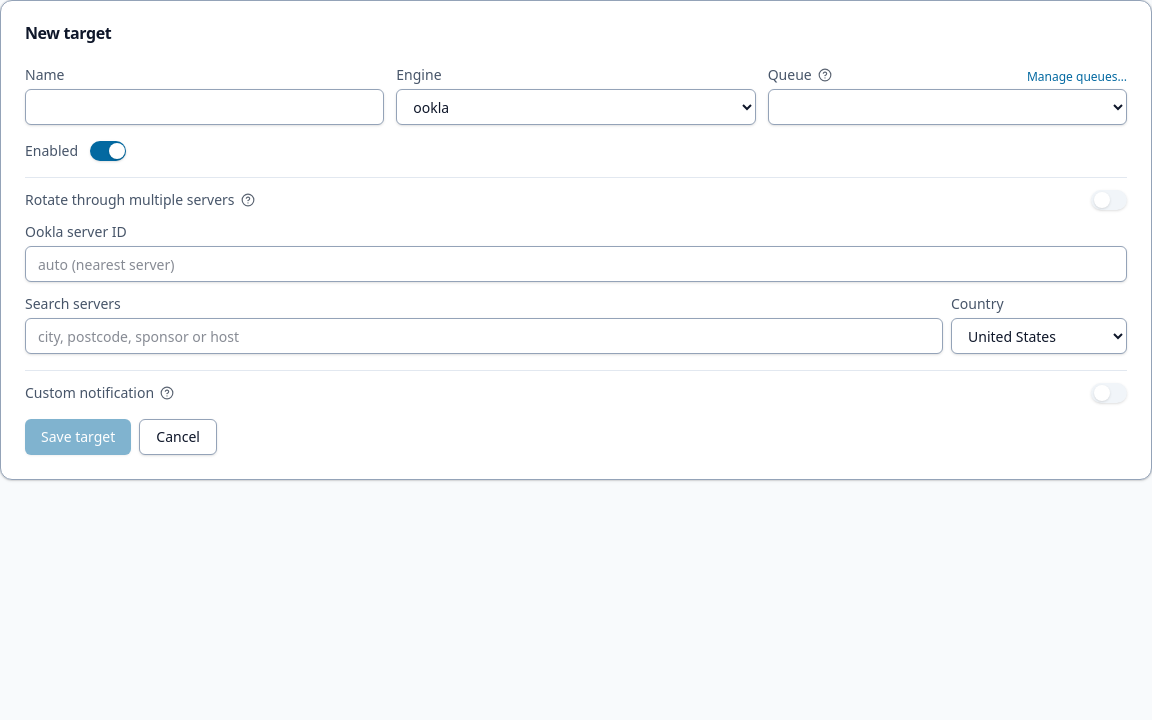
Test: TargetForm › shows the iperf3 option fields when iperf3 is chosen and Custom is switched on
The width and height of the screenshot is (1152, 720).
Select "iperf3" in the dropdown labelled "Engine": [576, 107] box [396, 89, 756, 125]
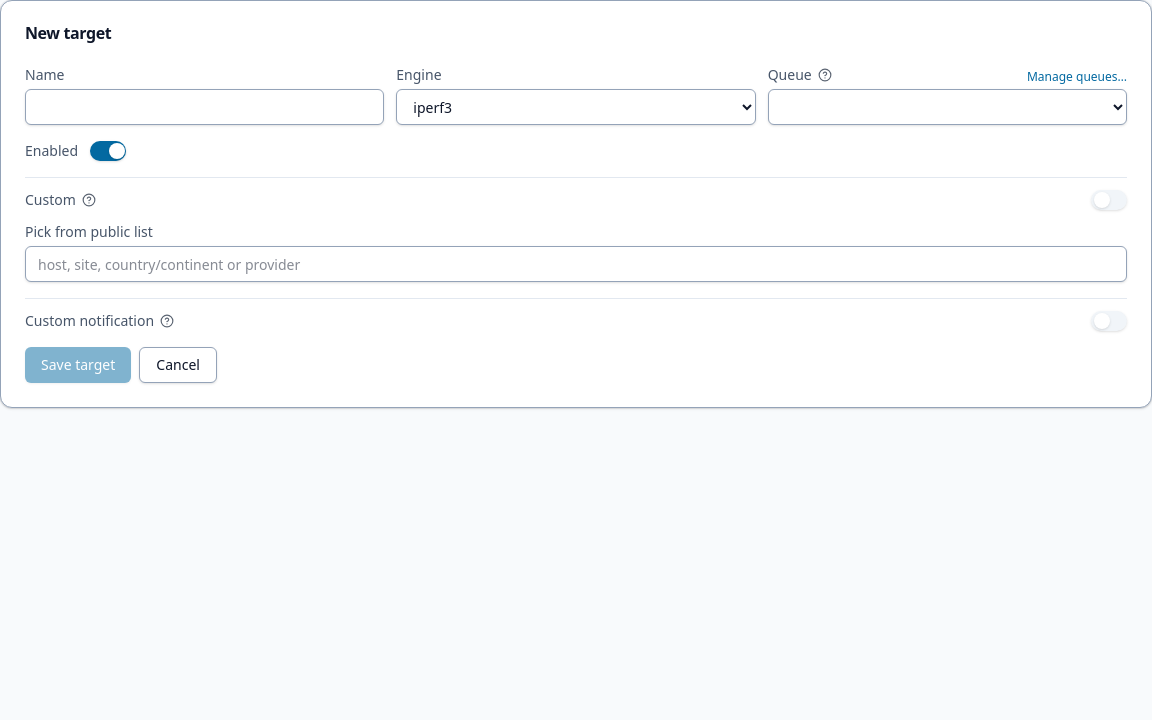
Expected: the field labelled "Port" is not shown
Click the 2nd switch named "Custom": [1109, 200] box [1091, 190, 1127, 210]
(page scrolled)
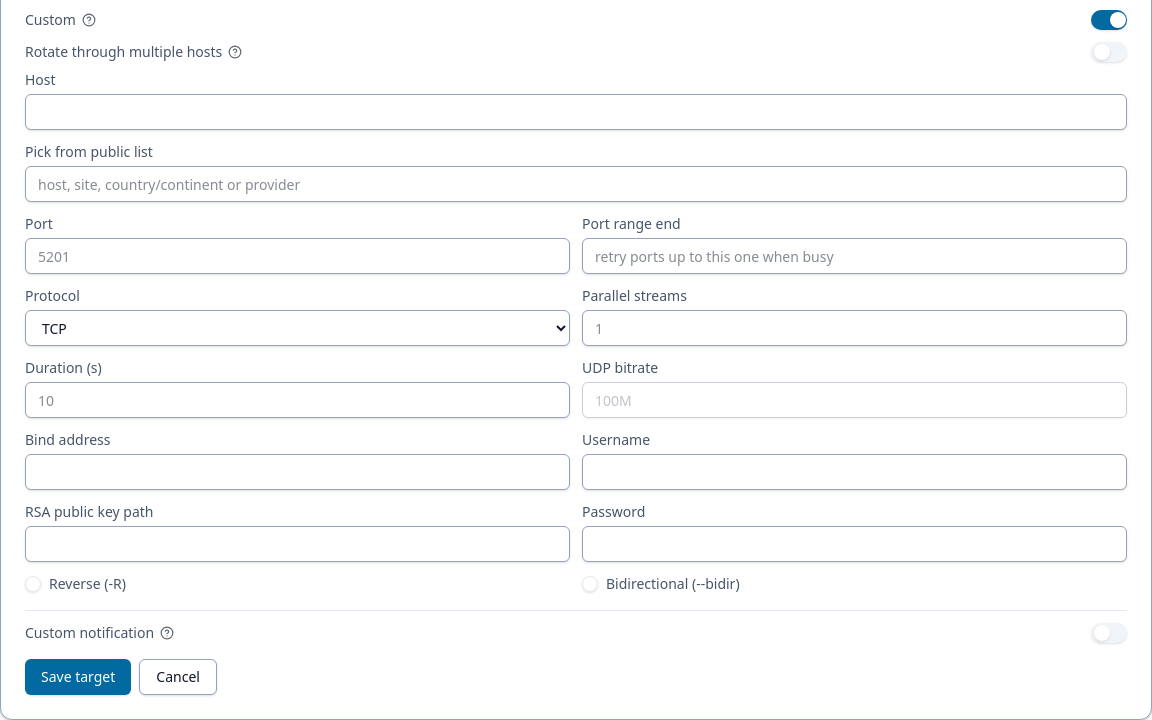
Expected: the field labelled "Host" is shown, [25, 94, 1127, 130]
Expected: the field labelled "Port" is shown, [25, 238, 570, 274]
Expected: the field labelled "Parallel streams" is shown, [582, 310, 1127, 346]
